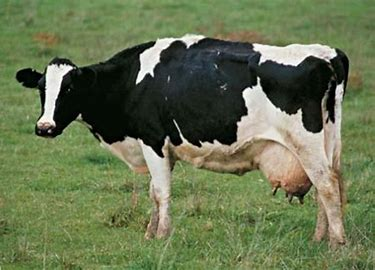waka: (4, 31, 353, 246)
